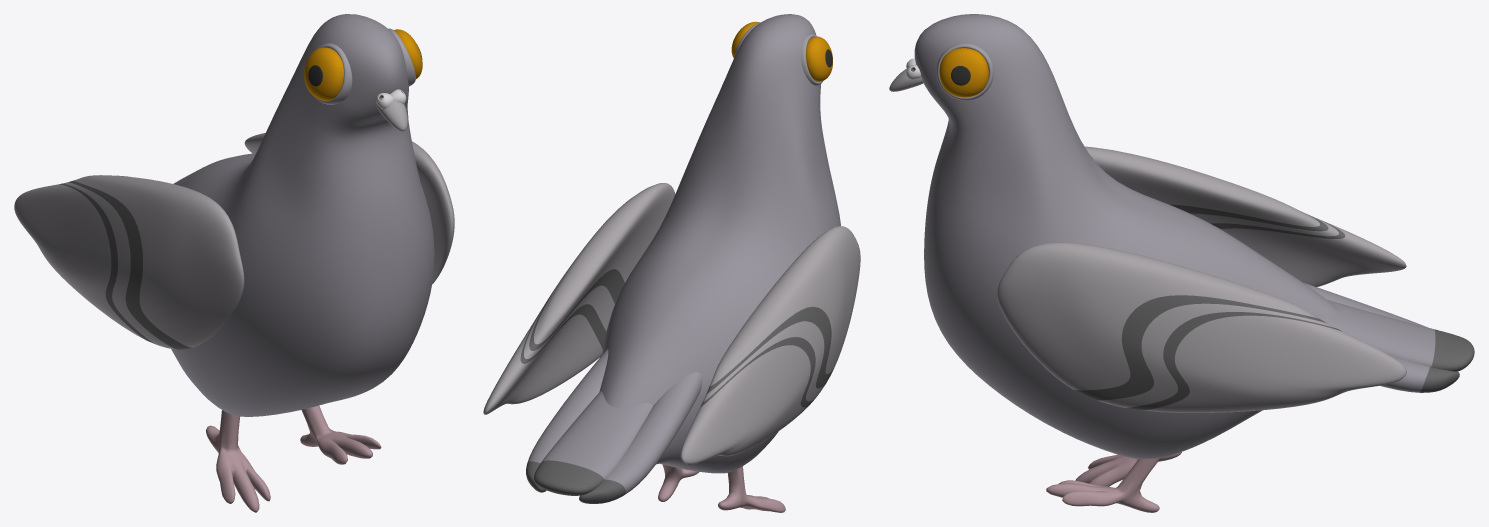
Rendered from WalkingAngryPigeon.fbx.
The picture shows the model from 3 angles, left to right: view 1: azimuth 30°, elevation 25°; view 2: azimuth 150°, elevation 25°; view 3: azimuth 270°, elevation 25°; orthographic projection. The views are drawn at different scales.
Visible parts, largest first — view 1: polySurface71, polySurface74, polySurface69, polySurface73, polySurface70, polySurface76, polySurface68, polySurface56, polySurface75; view 2: polySurface71, polySurface74, polySurface73, polySurface72, polySurface69, polySurface76, polySurface70; view 3: polySurface71, polySurface73, polySurface74, polySurface72, polySurface70, polySurface75, polySurface69, polySurface67.
Part boxes in pixels (bbox=[...]): polySurface71: bbox=[171, 14, 434, 416]; polySurface74: bbox=[14, 175, 244, 349]; polySurface69: bbox=[206, 410, 270, 512]; polySurface73: bbox=[244, 133, 454, 284]; polySurface70: bbox=[300, 405, 381, 464]; polySurface76: bbox=[304, 47, 343, 100]; polySurface68: bbox=[315, 43, 352, 104]; polySurface56: bbox=[376, 100, 407, 131]; polySurface75: bbox=[394, 29, 422, 78]; polySurface71: bbox=[599, 14, 840, 473]; polySurface74: bbox=[680, 226, 860, 464]; polySurface73: bbox=[483, 183, 675, 414]; polySurface72: bbox=[526, 349, 702, 503]; polySurface69: bbox=[718, 466, 785, 512]; polySurface76: bbox=[806, 36, 832, 81]; polySurface70: bbox=[658, 464, 699, 501]; polySurface71: bbox=[914, 14, 1338, 459]; polySurface73: bbox=[997, 242, 1406, 412]; polySurface74: bbox=[1085, 146, 1406, 286]; polySurface72: bbox=[1303, 282, 1474, 392]; polySurface70: bbox=[1046, 458, 1160, 512]; polySurface75: bbox=[939, 48, 988, 97]; polySurface69: bbox=[1075, 452, 1181, 486]; polySurface67: bbox=[936, 43, 993, 100].
Size of the model in its own units: 5.09 by 8.81 by 9.51.
